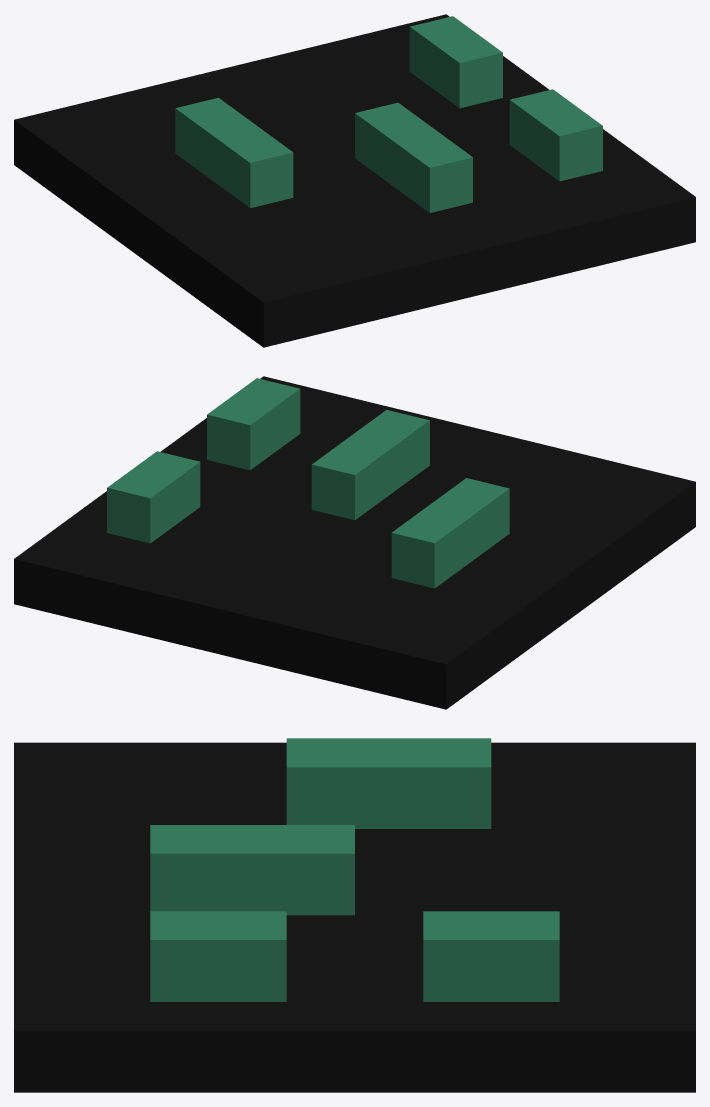
File: World Floor Section.obj
The picture shows the model from 3 angles, top to bottom: view 1: azimuth 30°, elevation 25°; view 2: azimuth 150°, elevation 25°; view 3: azimuth 270°, elevation 25°; orthographic projection. The views are drawn at different scales.
Parts seen in each view (by area): view 1: World Floor Section, Wall; view 2: World Floor Section, Wall; view 3: World Floor Section, Wall.
Part boxes in pixels (box(x1,y1,x2,y2)): World Floor Section: box(14, 14, 695, 347); Wall: box(175, 16, 602, 212); World Floor Section: box(14, 376, 695, 709); Wall: box(107, 378, 509, 588); World Floor Section: box(14, 742, 695, 1092); Wall: box(150, 738, 559, 1001).
Bounding box in the file's own units: 10 × 2 × 10.
